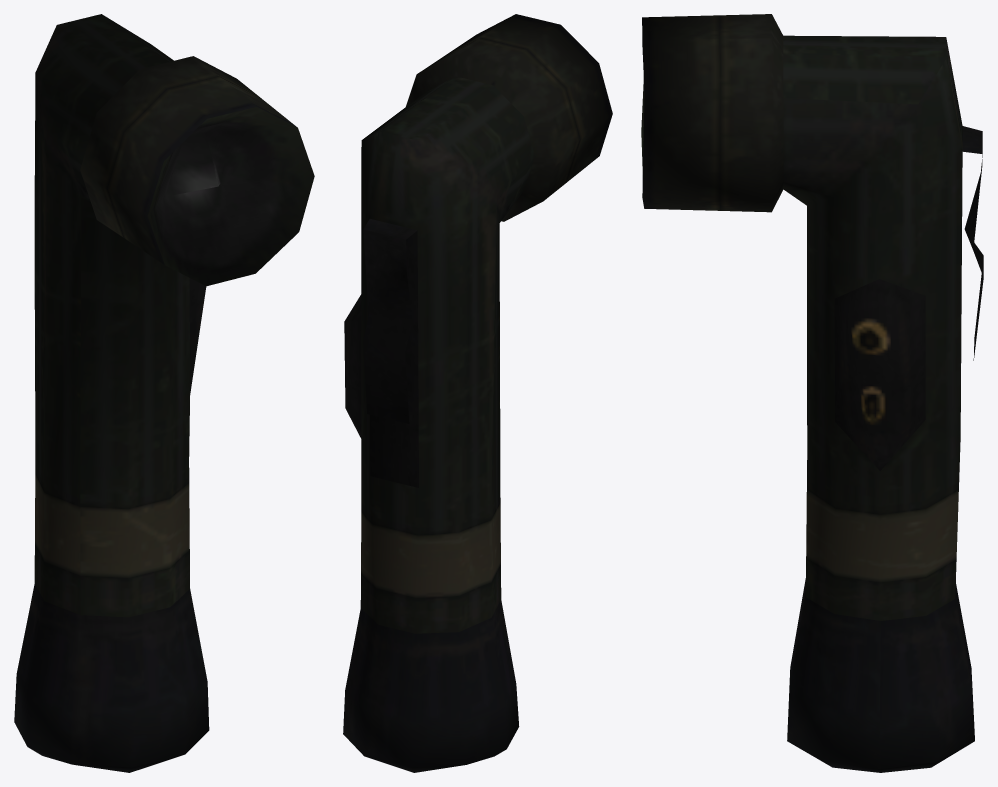
The model's file is Flashlight.obj.
The picture shows the model from 3 angles, left to right: view 1: azimuth 30°, elevation 25°; view 2: azimuth 150°, elevation 25°; view 3: azimuth 270°, elevation 25°; orthographic projection. The views are drawn at different scales.
Parts seen in each view (by area): view 1: Flashlight; view 2: Flashlight; view 3: Flashlight.
Part boxes in pixels (left/top/right/bottom): Flashlight: left=14, top=14, right=314, bottom=772; Flashlight: left=343, top=14, right=612, bottom=772; Flashlight: left=641, top=14, right=983, bottom=772.
Bounding box in the file's own units: 0.0816 × 0.3185 × 0.1384.
Materials: 1 (1 with a texture image).
